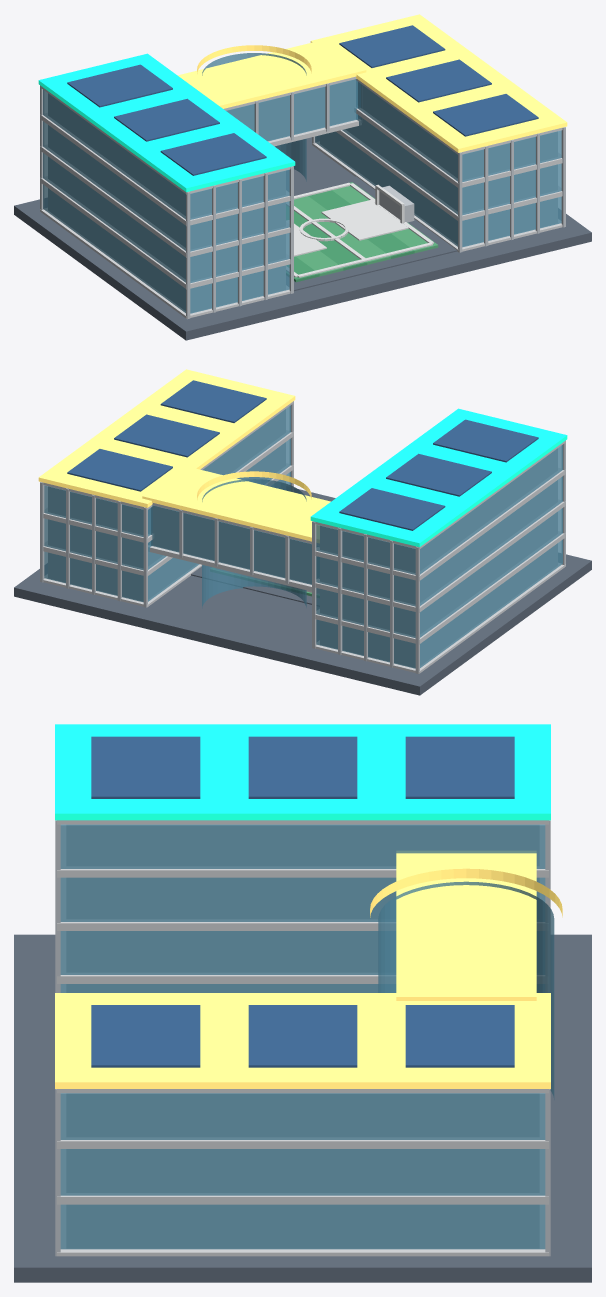
File: elite_academy_complex.master.glb
3 views of the same model, one above another, from view 1: azimuth 30°, elevation 25°; view 2: azimuth 150°, elevation 25°; view 3: azimuth 270°, elevation 25° (orthographic). The views are drawn at different scales.
Visible parts, largest first — view 1: elite_academy_complex_master; view 2: elite_academy_complex_master; view 3: elite_academy_complex_master.
Boxes of the visible parts, x1=… form: elite_academy_complex_master: x1=14, y1=14, x2=591, y2=340; elite_academy_complex_master: x1=14, y1=369, x2=591, y2=695; elite_academy_complex_master: x1=14, y1=724, x2=591, y2=1282.
Size of the model in its own units: 3.76 by 1.25 by 2.76.
